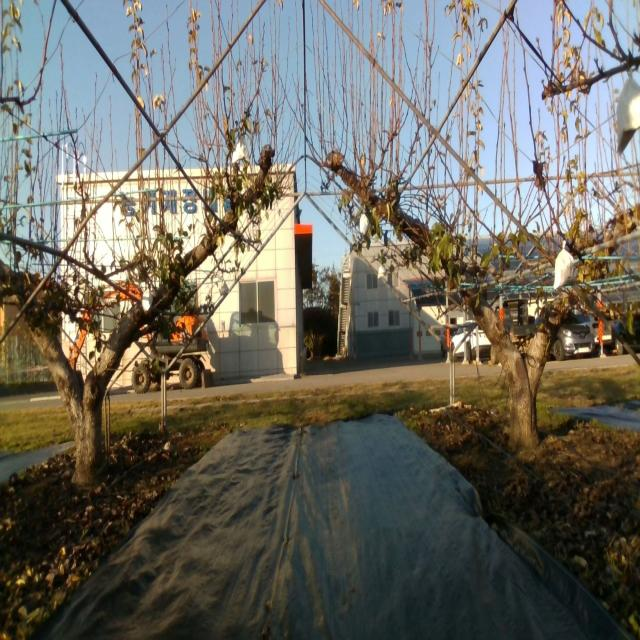pearbags: (615, 68, 640, 149), (553, 242, 576, 291), (231, 139, 250, 164), (141, 281, 154, 310), (219, 274, 229, 294)
